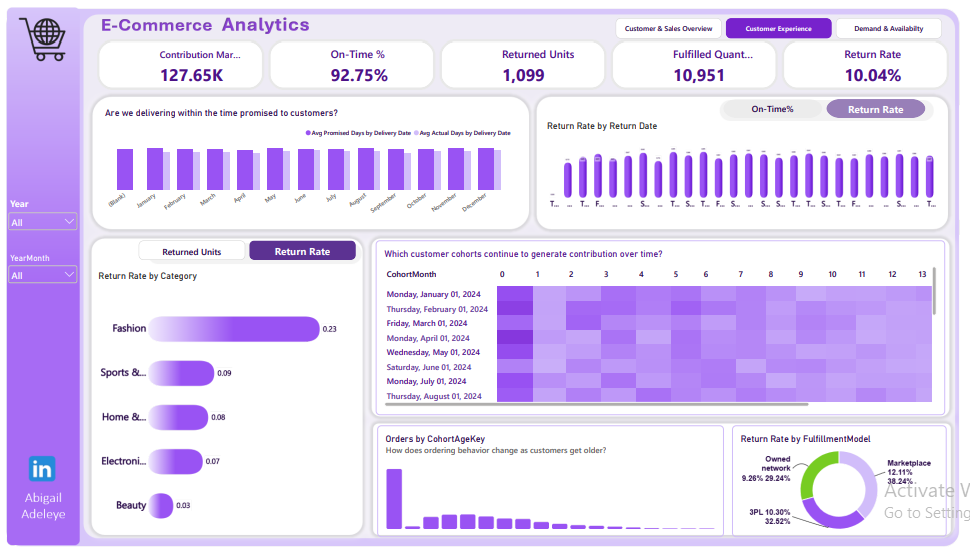

The page's visual inventory and layout, read from the dashboard file:
{"tool":"powerbi","page":{"name":"Customer Experience","canvas":[1920,1080],"ordinal":1},"visuals":[{"type":"clusteredColumnChart","title":"Are we delivering within the time promised to customers?","fields":{"Category":["DimDate.Month"],"Y":["_measures.Avg Promised Days by Delivery Date","_measures.Avg Actual Days by Delivery Date"]},"box":[181.6,183.7,846.9,255.1],"z":0},{"type":"ZoomChartsFacetChartPaidE77E4ED357DC402ABA005987437CF500","title":"Return Rate by Return Date","fields":{"Values1":["_measures.Return Rate by Return Date"],"Category":["DimDate.YearMonth"]},"box":[1065.1,210.3,813.7,228.6],"z":2000},{"type":"ZoomChartsDrillDownComboBarProE77E4ED357DC402ABA005987437CF8","title":"Return Rate by Category","fields":{"Category":["DimProduct.Category"],"Values1":["_measures.Return Rate by Return Date"]},"box":[169.1,509.7,541.7,544],"z":3000},{"type":"pivotTable","title":"Which customer cohorts continue to generate contribution over time?","fields":{"Columns":["DimCohortAge.CohortAgeKey"],"Rows":["DimCustomer.CohortMonth"],"Values":["_measures.Contribution Margin"]},"box":[738.8,465.3,1136.7,349],"z":5000},{"type":"ZoomChartsPieChartPaidE77E4ED357DC402ABA005987437CF500","fields":{"Category":["DimFulfillment.FulfillmentModel"],"Values":["_measures.Return Rate"]},"box":[1450.7,834.6,428.4,223.6],"z":6000},{"type":"ZoomChartsFacetChartPaidE77E4ED357DC402ABA005987437CF500","fields":{"Category":["DimCohortAge.CohortAgeKey"],"Values1":["_measures.Orders"]},"box":[742.4,834.6,691.2,223.6],"z":7000},{"type":"cardVisual","fields":{"Data":["_measures.Contribution Margin","_measures.On-Time %","_measures.Returned Units","_measures.fulfilled Quantity","_measures.Return Rate"]},"box":[181.6,63.6,1704,100],"z":8000},{"type":"bookmarkNavigator","box":[1432.7,181.6,404.1,38.8],"z":9000},{"type":"bookmarkNavigator","box":[277.6,467.3,408.2,44.9],"z":10000},{"type":"bookmarkNavigator","box":[264.8,464.8,435.4,39.2],"z":11000},{"type":"slicer","fields":{"Values":["DimDate.Year"]},"box":[0,377.4,146.5,74.4],"z":12000},{"type":"slicer","fields":{"Values":["DimDate.YearMonth"]},"box":[0,489,146.5,69.8],"z":13000},{"type":"pageNavigator","box":[1218.2,21.6,652.3,41],"z":13001}]}

Visuals, with their boxes on the page's 1920x1080 design canvas (x1, y1, x2, y2). These are canvas units, not pixel positions in the 970x555 screenshot, which may show the page scaled, cropped or inside an application window:
"Are we delivering within the time promised to customers?" clusteredColumnChart: 182 184 1028 439
"Return Rate by Return Date" ZoomChartsFacetChartPaidE77E4ED357DC402ABA005987437CF500: 1065 210 1879 439
"Return Rate by Category" ZoomChartsDrillDownComboBarProE77E4ED357DC402ABA005987437CF8: 169 510 711 1054
"Which customer cohorts continue to generate contribution over time?" pivotTable: 739 465 1876 814
ZoomChartsPieChartPaidE77E4ED357DC402ABA005987437CF500 - DimFulfillment.FulfillmentModel x _measures.Return Rate: 1451 835 1879 1058
ZoomChartsFacetChartPaidE77E4ED357DC402ABA005987437CF500 - DimCohortAge.CohortAgeKey x _measures.Orders: 742 835 1434 1058
cardVisual - _measures.Contribution Margin x _measures.On-Time %: 182 64 1886 164
bookmarkNavigator: 1433 182 1837 220
bookmarkNavigator: 278 467 686 512
bookmarkNavigator: 265 465 700 504
slicer - DimDate.Year: 0 377 146 452
slicer - DimDate.YearMonth: 0 489 146 559
pageNavigator: 1218 22 1870 63
